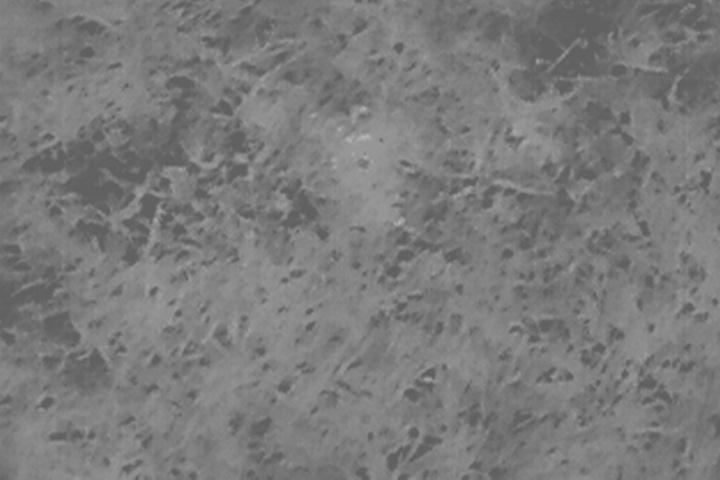landmine: (328, 129, 399, 196)
